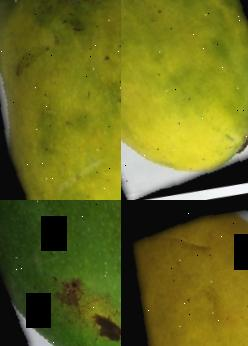PartiallyRipe: (121, 0, 248, 200), (0, 0, 121, 200)
Ripe: (121, 200, 248, 346)
Unripe: (0, 200, 121, 346)
